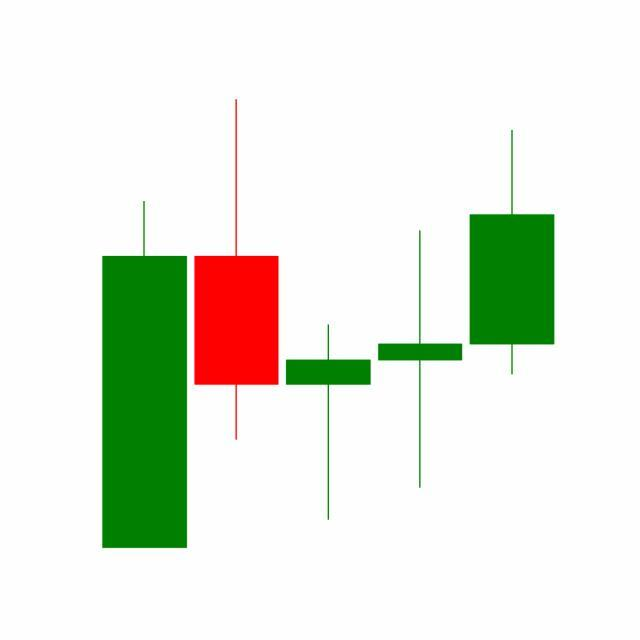Spinning Top: (374, 228, 468, 492)
